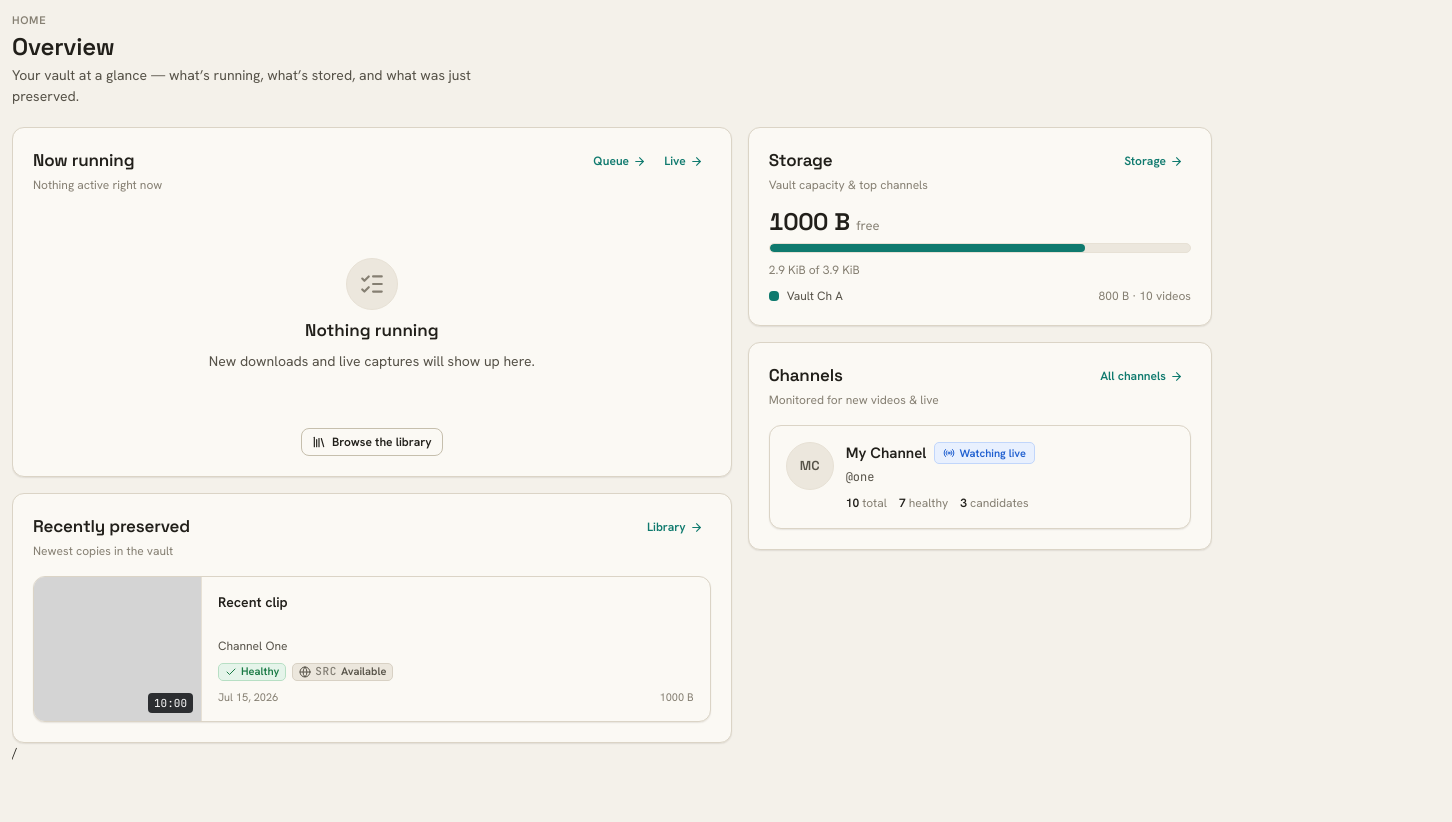
Test: HomePage › routes read-only actions to the dedicated screens
Expected: the heading "Recent clip" is shown, x1=218 y1=593 x2=288 y2=611
Click the button "Storage". click: (1154, 161)
box: x1=1116 y1=148 x2=1191 y2=174
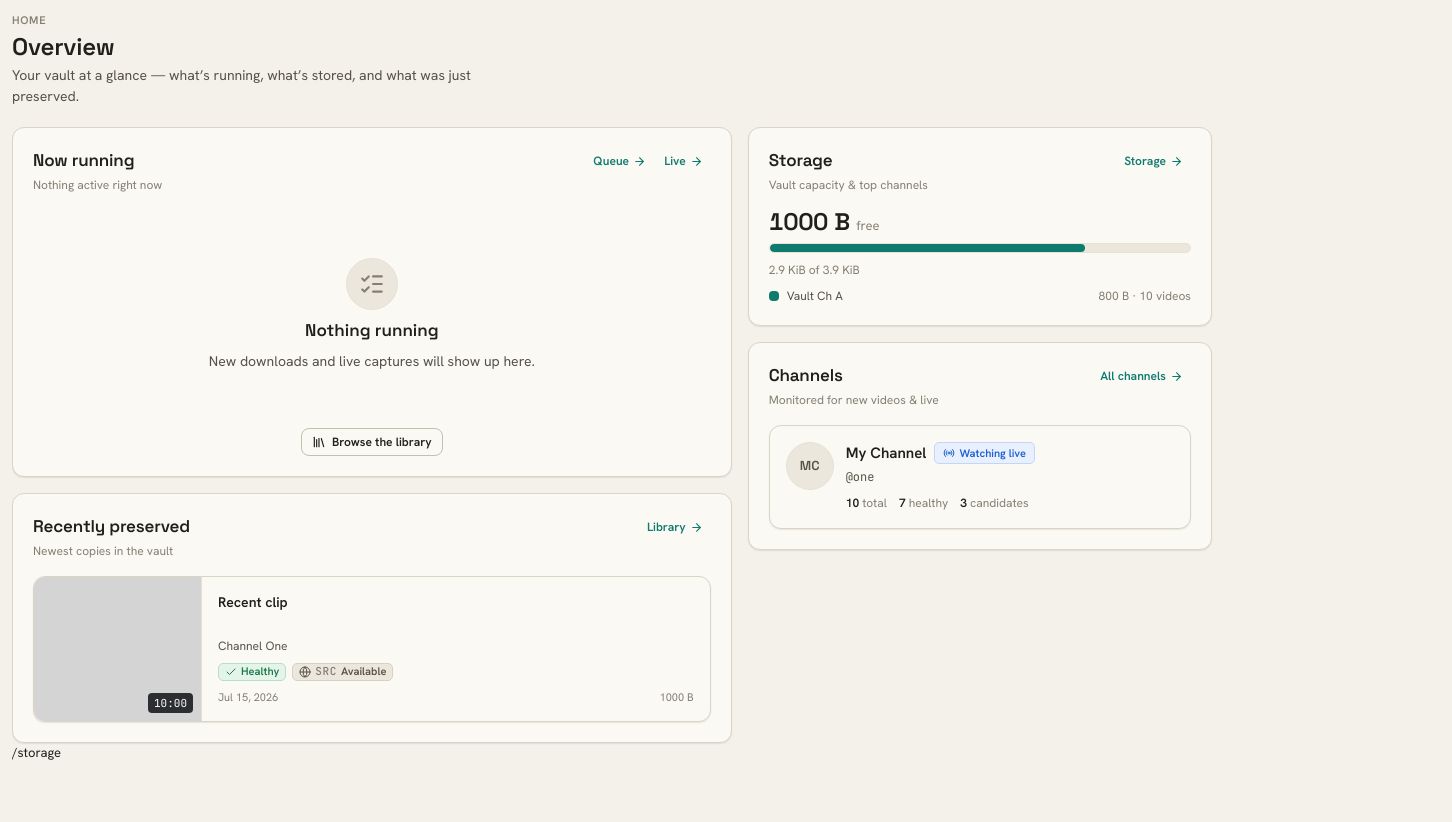
Result: the text with test id "loc" reads "/storage" at x1=12 y1=744 x2=61 y2=761
Click the heading "Recent clip". click: (253, 602)
box: x1=218 y1=593 x2=288 y2=611
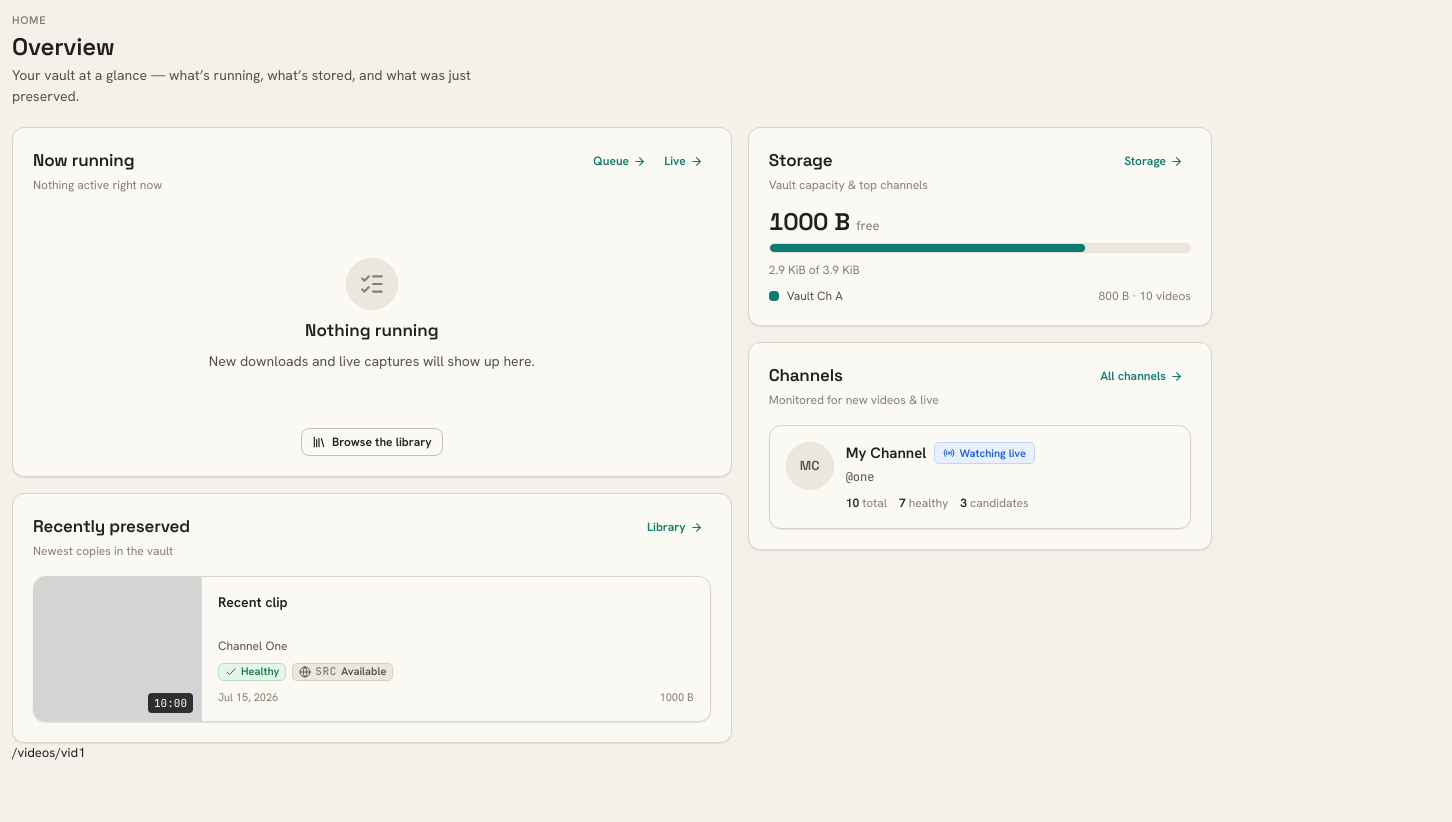
Result: the text with test id "loc" reads "/videos/vid1" at x1=12 y1=744 x2=86 y2=761
Click the heading "My Channel". click: (886, 453)
box: x1=846 y1=442 x2=926 y2=464
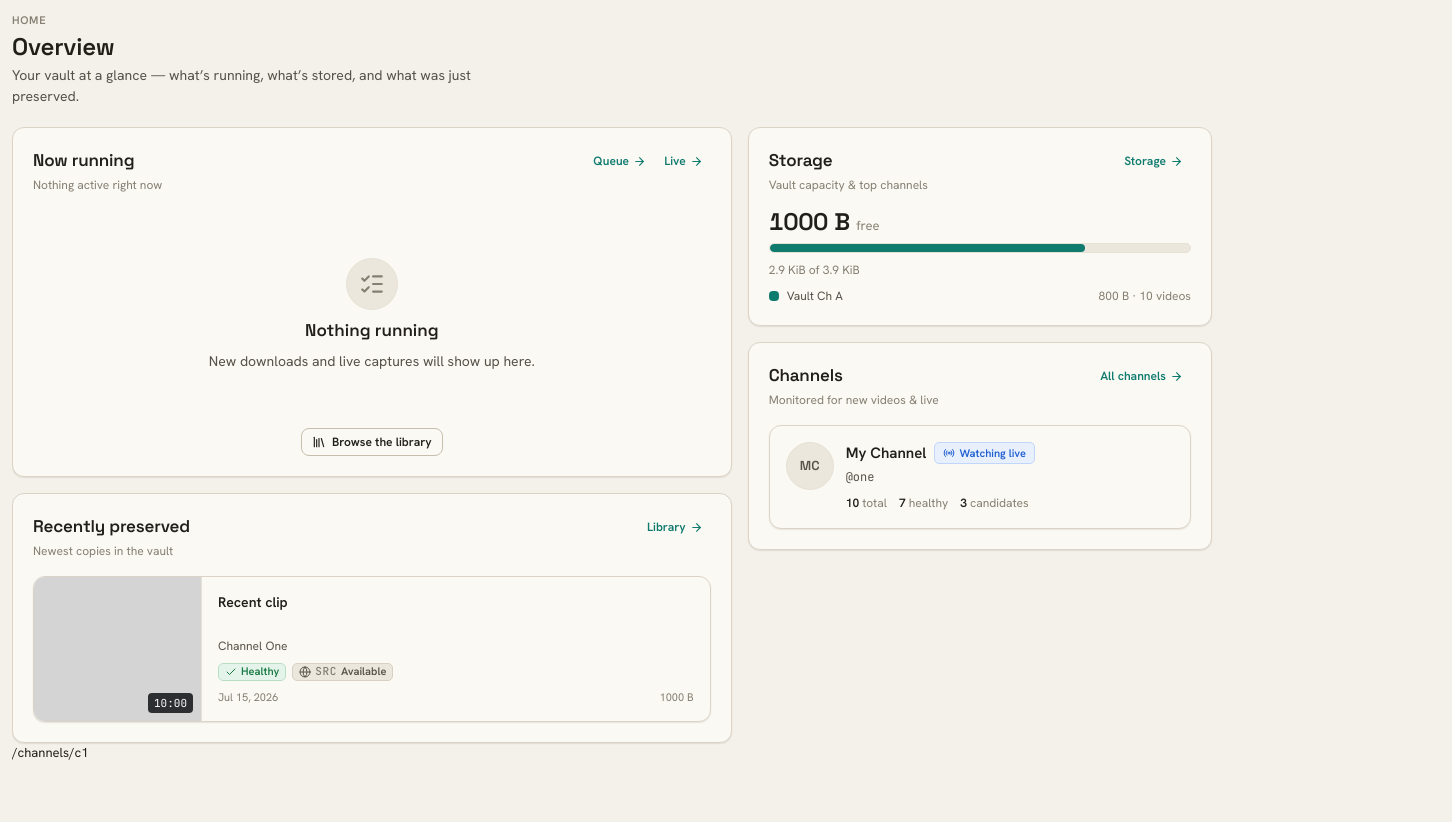
Result: the text with test id "loc" reads "/channels/c1" at x1=12 y1=744 x2=88 y2=761
